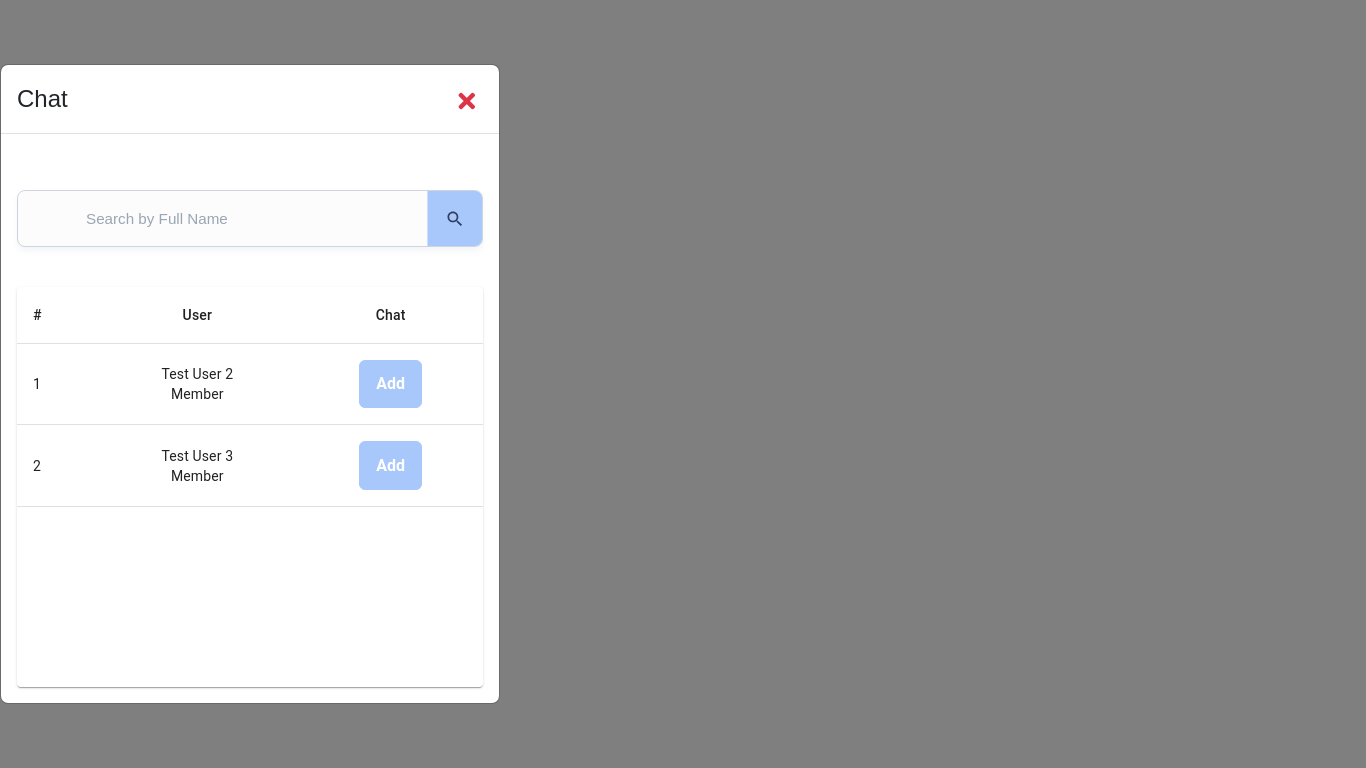
Test: CreateDirectChatModal › should clear the search input when clear button is clicked
The image size is (1366, 768).
Type "Test User 2" into the search field with test id "searchUser" at x=214, y=218, box [38,210,391,227]
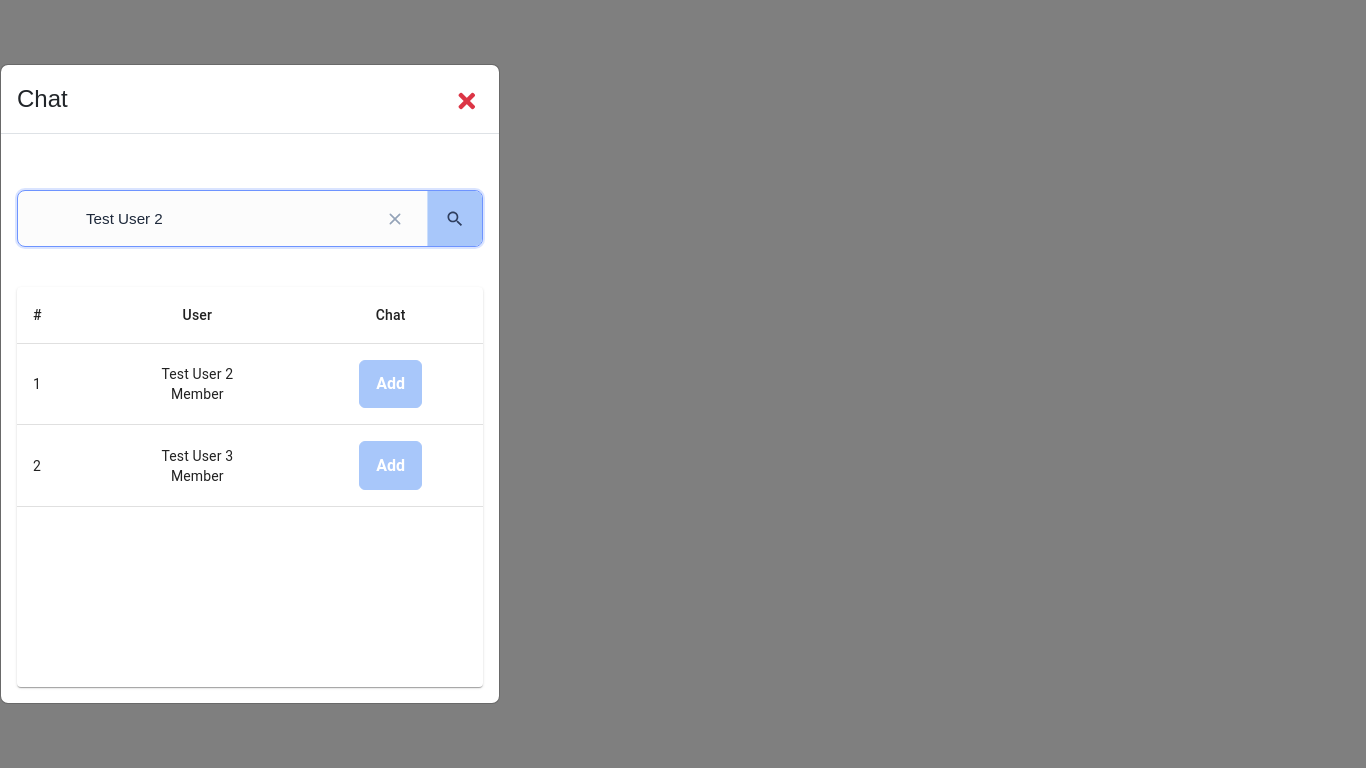
Click the button with test id "submitBtn" at x=454, y=218, box [427,191,482,246]
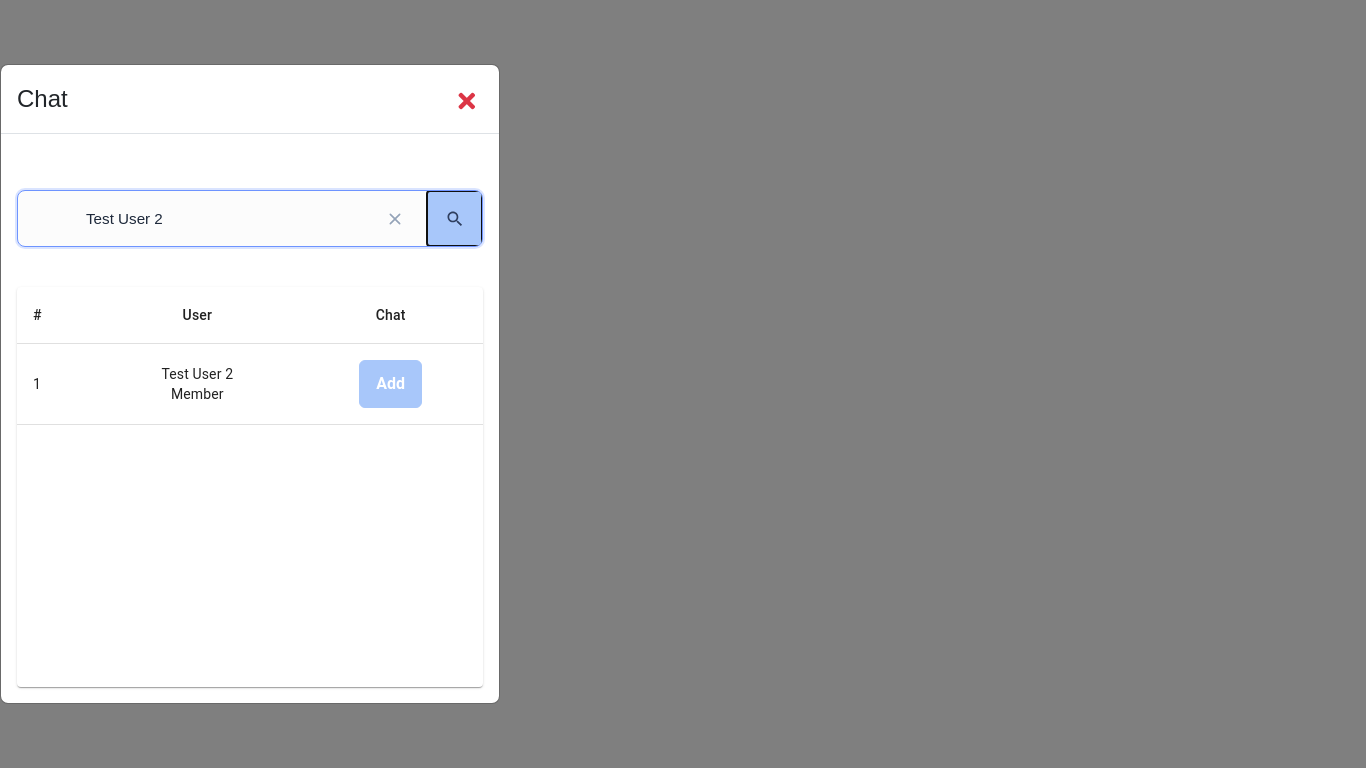
Expected: the row with test id "user" shows "Test User 2", [161,366,233,382]
Expected: the number of rows with test id "user" is 1, [17,344,483,425]
Click the button named "clear" at x=395, y=218, box [382,206,407,231]
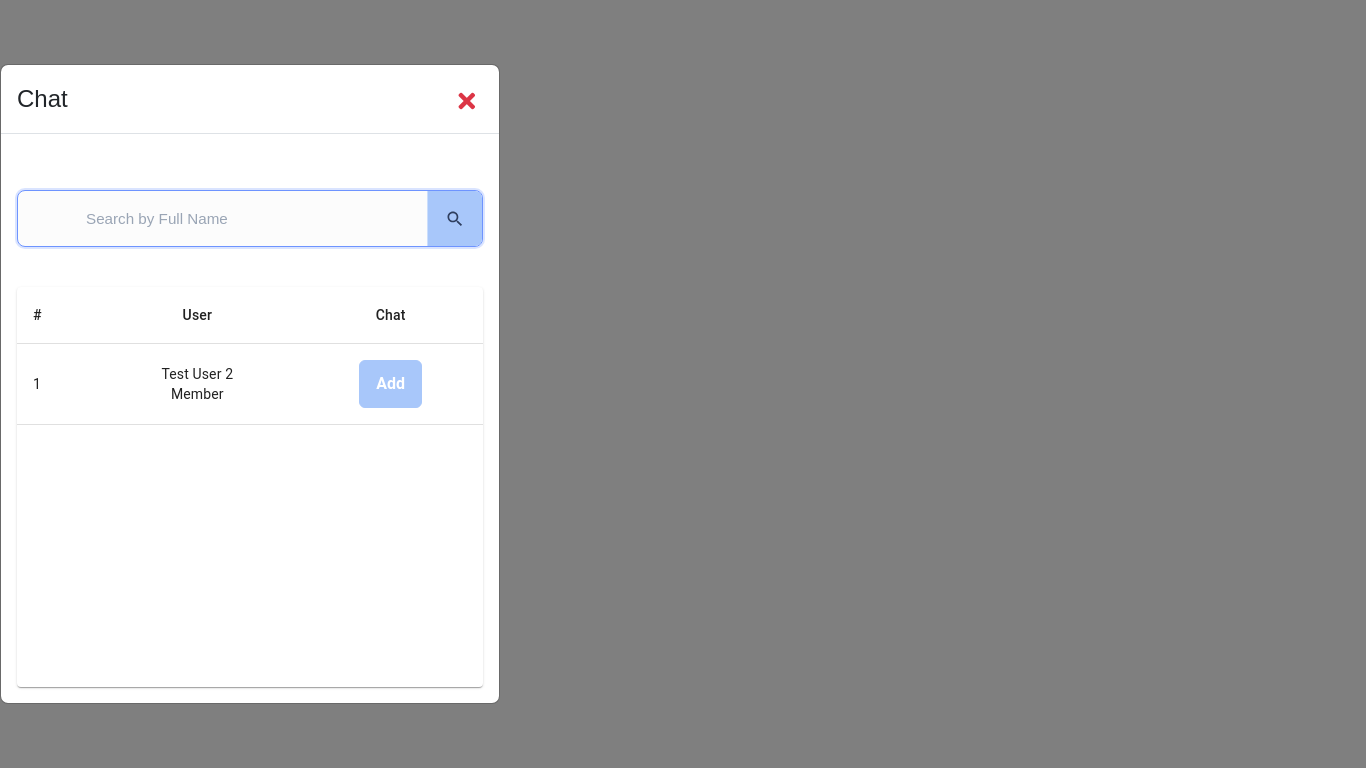
Expected: the search field with test id "searchUser" is empty, [38,210,391,227]
Expected: the button labelled "clear" is gone
